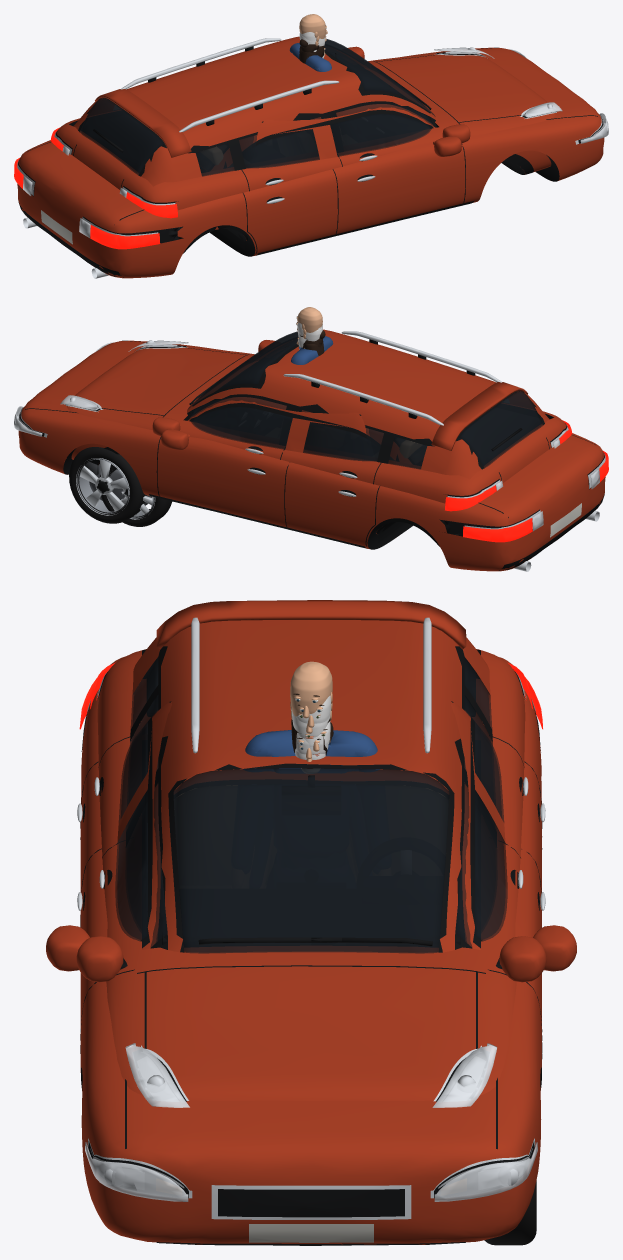
File: actors.glb
3 views of the same model, one above another, from view 1: azimuth 30°, elevation 25°; view 2: azimuth 150°, elevation 25°; view 3: azimuth 270°, elevation 25° (orthographic). The views are drawn at different scales.
Visible parts, largest first — view 1: car_i20, car_sedan, P1_torso; view 2: car_i20, car_sedan, wheel_sedan, wheel_i20, P1_torso; view 3: car_i20, car_sedan, P1_torso, wheel_sedan.
Boxes of the visible parts, x1,y1,x2,y2 form: car_i20: (50, 36, 562, 253); car_sedan: (14, 46, 608, 278); P1_torso: (290, 14, 331, 70); car_i20: (60, 329, 572, 546); car_sedan: (14, 340, 608, 571); wheel_sedan: (69, 447, 146, 523); wheel_i20: (100, 464, 172, 526); P1_torso: (291, 307, 332, 363); car_i20: (76, 600, 546, 1107); car_sedan: (46, 656, 576, 1245); P1_torso: (248, 661, 374, 772); wheel_sedan: (484, 1180, 536, 1245).
Size of the model in its own units: 4.73 by 1.88 by 2.13.
